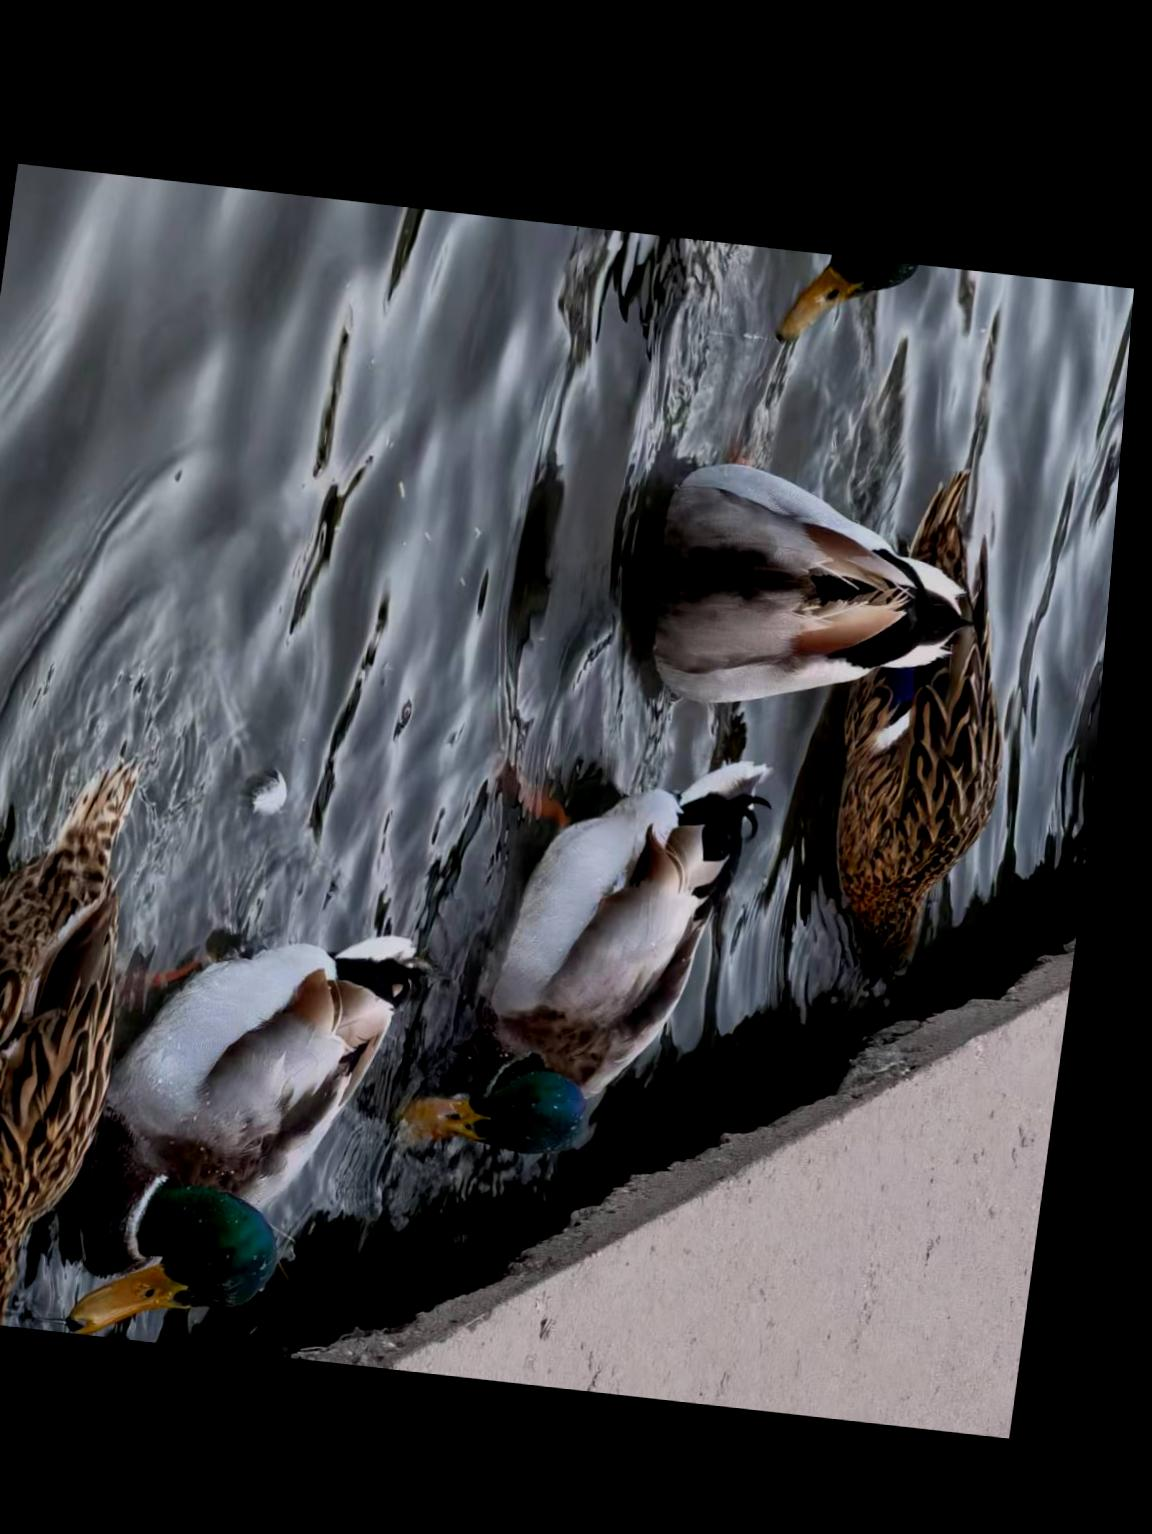duck: (403, 704, 800, 1170), (87, 888, 447, 1361), (824, 446, 1050, 996), (638, 431, 1003, 728), (0, 734, 163, 1333), (684, 230, 934, 352)
